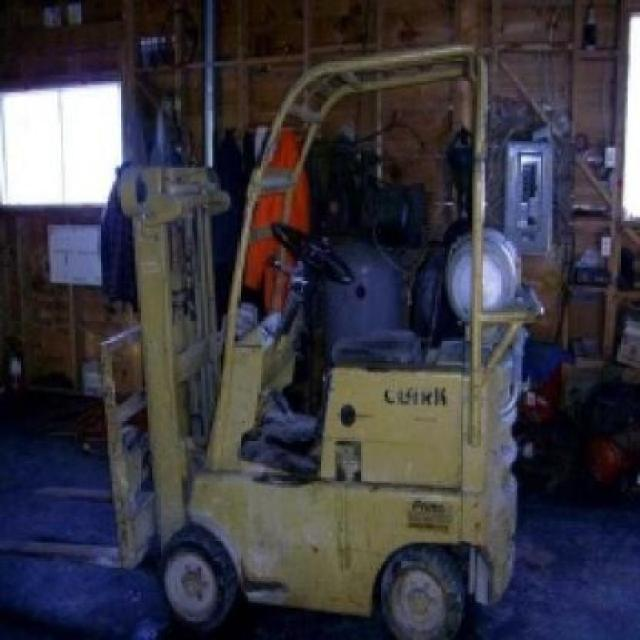forklift: (98, 42, 546, 638)
